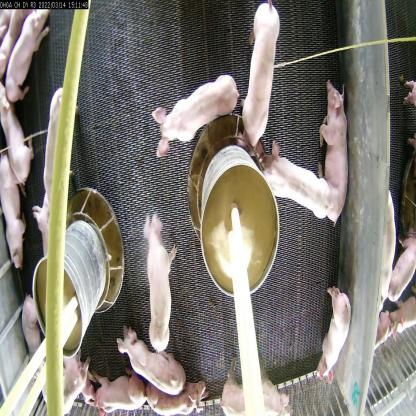Pig: (147, 59, 245, 170), (28, 86, 76, 253), (262, 134, 330, 235), (318, 80, 360, 230), (238, 7, 282, 148), (144, 211, 180, 347), (0, 1, 50, 95), (119, 336, 191, 392), (83, 363, 158, 416), (0, 150, 34, 260), (218, 363, 285, 416), (313, 290, 350, 378), (0, 84, 30, 180), (149, 380, 215, 415)
